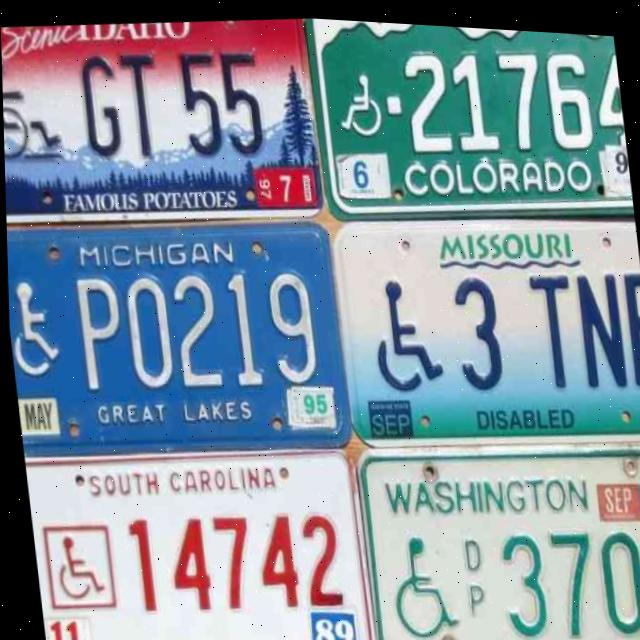symbol_of_access: (362, 262, 444, 395), (380, 516, 461, 636), (1, 49, 61, 163), (6, 272, 63, 384), (40, 521, 109, 609), (331, 60, 388, 143)
